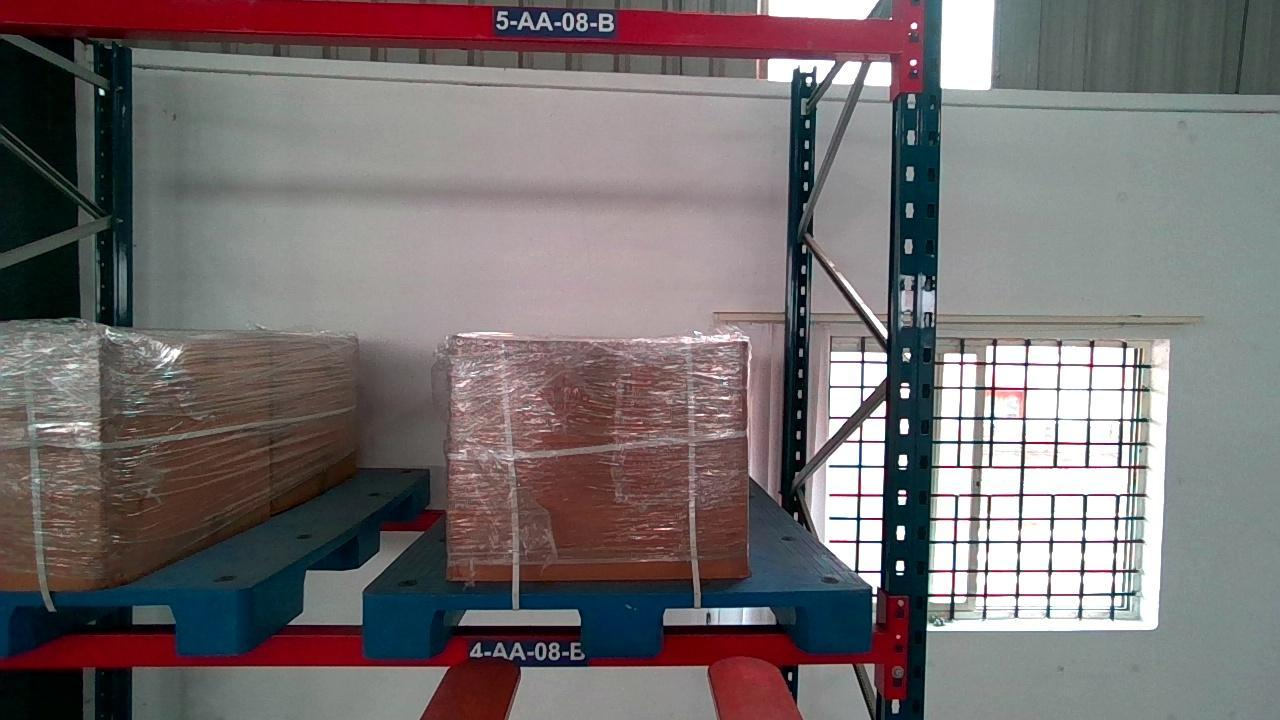h_rack: (0, 0, 897, 52), (3, 629, 908, 665)
small_pallet: (361, 590, 871, 655), (3, 589, 238, 656)
